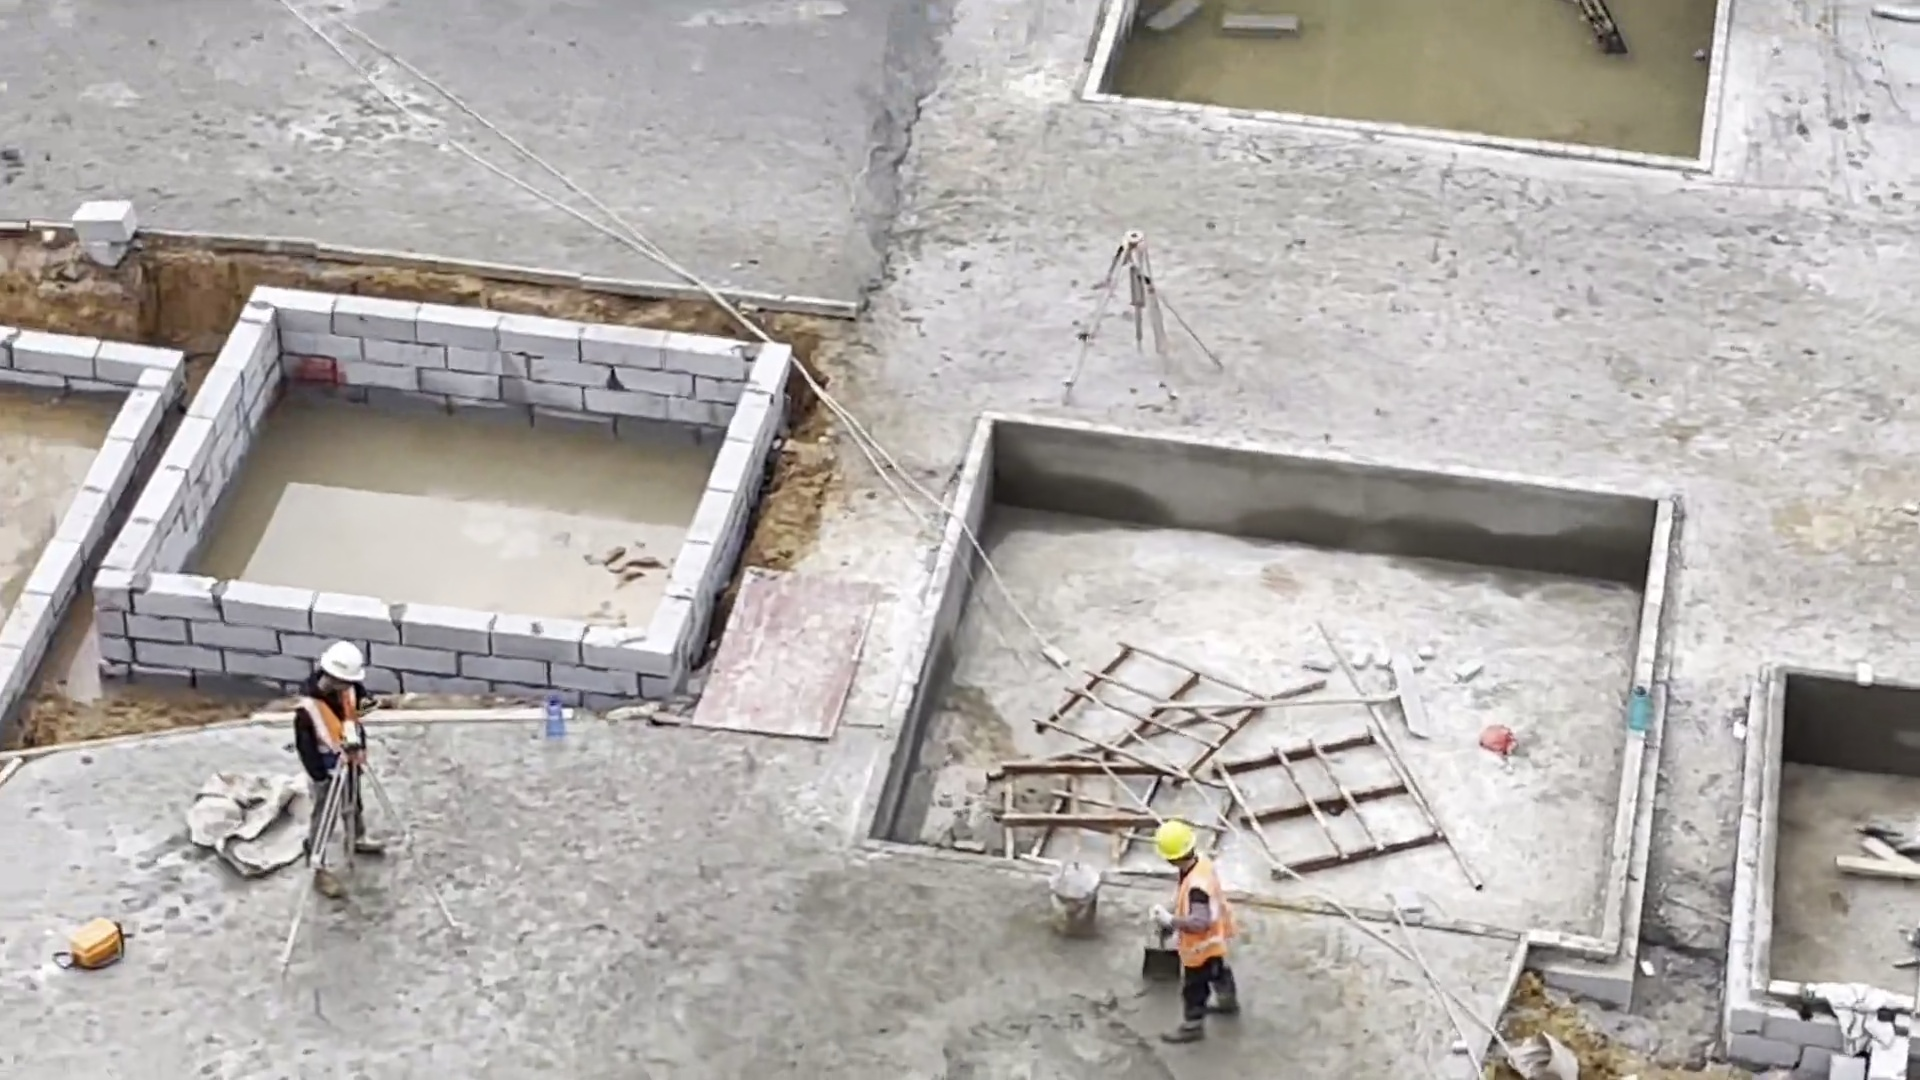helmet: (1153, 819, 1197, 864), (321, 642, 367, 686)
person: (1142, 819, 1246, 1052), (295, 641, 388, 890)
vest: (1170, 853, 1239, 968), (299, 673, 370, 777)
